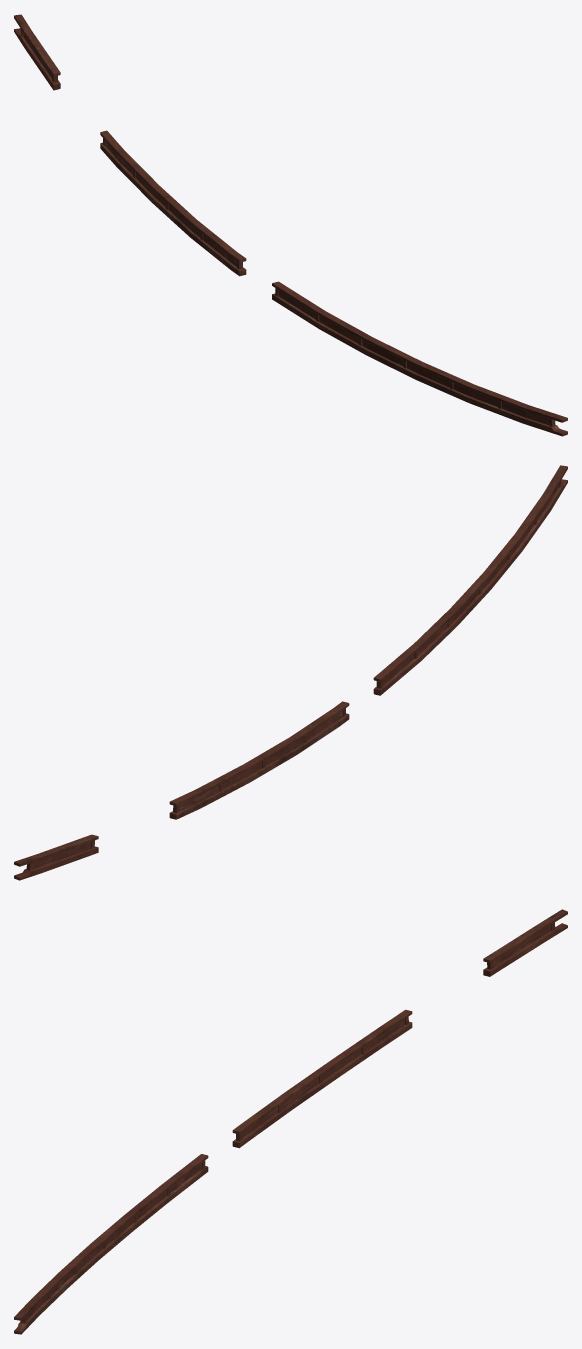
Rendered from SM_Fence01d.fbx.
3 views of the same model, one above another, from view 1: azimuth 30°, elevation 25°; view 2: azimuth 150°, elevation 25°; view 3: azimuth 330°, elevation 25° (orthographic).
Visible parts, largest first — view 1: SM_Fence01d; view 2: SM_Fence01d; view 3: SM_Fence01d.
Part boxes in pixels (x1=…): SM_Fence01d: x1=14, y1=14, x2=567, y2=436; SM_Fence01d: x1=14, y1=465, x2=567, y2=880; SM_Fence01d: x1=14, y1=909, x2=567, y2=1334.
Bounding box in the file's own units: 169 × 125 × 2674.
